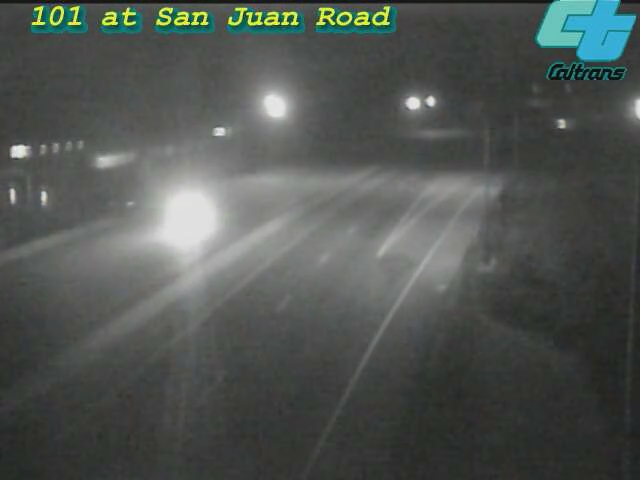vehicle: (155, 177, 235, 257)
